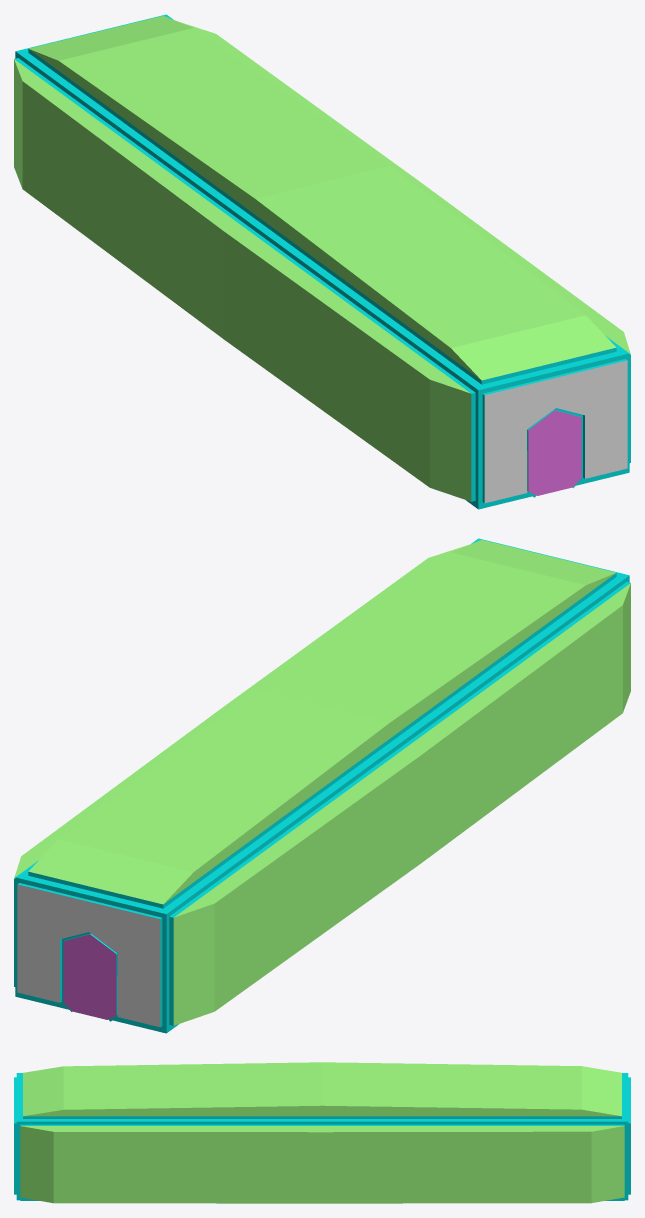
The model's file is glass room.glb.
3 views of the same model, one above another, from view 1: azimuth 30°, elevation 25°; view 2: azimuth 150°, elevation 25°; view 3: azimuth 270°, elevation 25° (orthographic). The views are drawn at different scales.
Visible parts, largest first — view 1: Cube; view 2: Cube; view 3: Cube.
Boxes of the visible parts, <box> form: Cube: <box>14,14,630,509</box>; Cube: <box>14,538,630,1033</box>; Cube: <box>14,1062,630,1203</box>.
Bounding box in the file's own units: 13.98 × 10.54 × 57.17.
